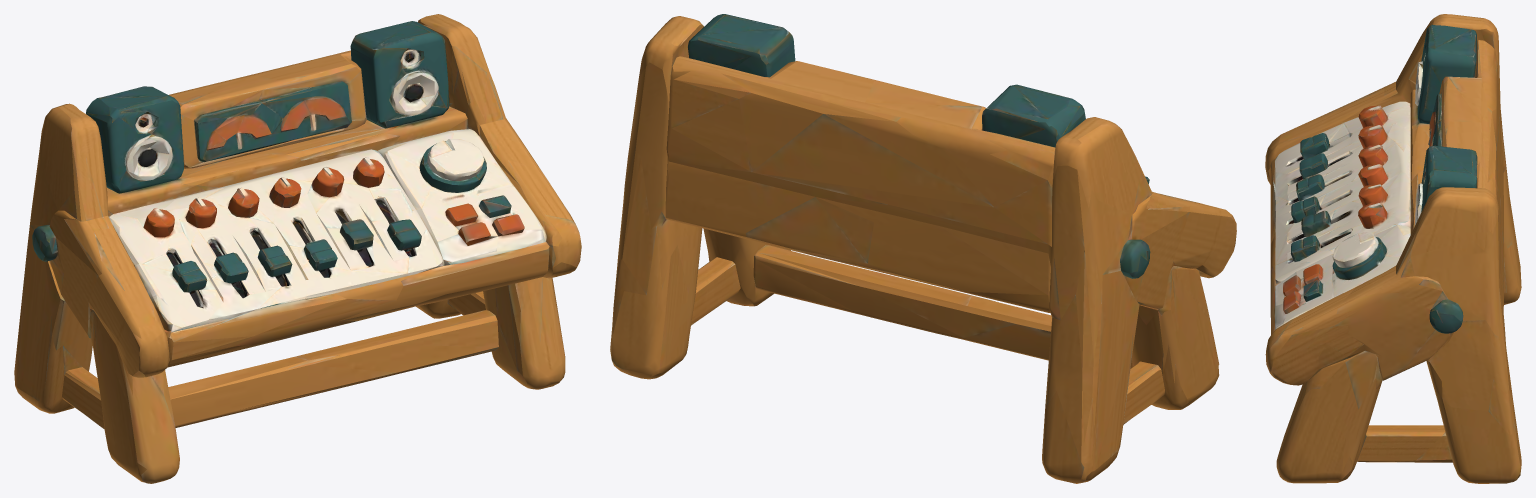
The model's file is audioConsole.glb.
3 renders of one model, left to right at view 1: azimuth 30°, elevation 25°; view 2: azimuth 150°, elevation 25°; view 3: azimuth 270°, elevation 25°, orthographic. The views are drawn at different scales.
Visible parts, largest first — view 1: Mesh_0; view 2: Mesh_0; view 3: Mesh_0.
Boxes of the visible parts, left/top/right/bottom form: Mesh_0: left=14, top=14, right=581, bottom=483; Mesh_0: left=610, top=14, right=1236, bottom=483; Mesh_0: left=1265, top=14, right=1521, bottom=483.
Bounding box in the file's own units: 1.2 × 0.7706 × 0.6112.
1 material, 1 textured.
